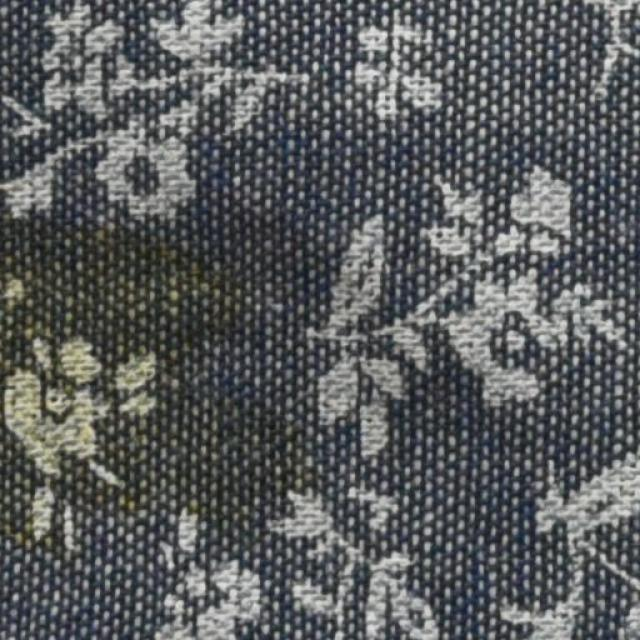Stain: (0, 199, 313, 548)
